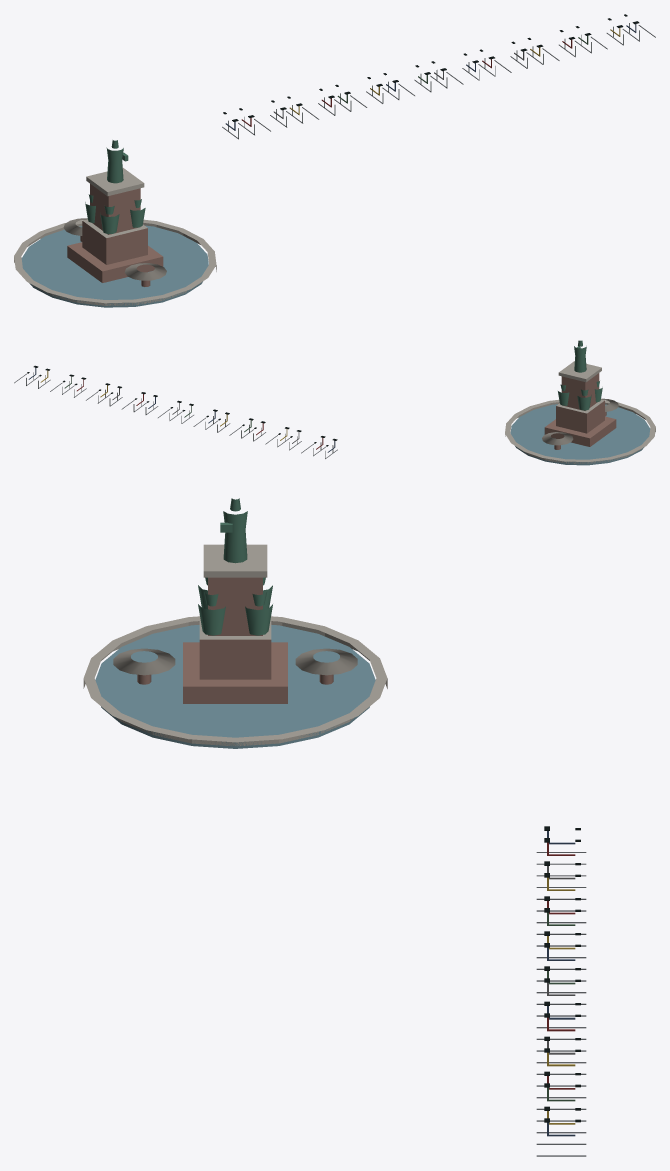
Rendered from hbx_platz.glb.
3 views of the same model, one above another, from view 1: azimuth 30°, elevation 25°; view 2: azimuth 150°, elevation 25°; view 3: azimuth 270°, elevation 25° (orthographic). The views are drawn at different scales.
Parts seen in each view (by area): view 1: hbx_platz; view 2: hbx_platz; view 3: hbx_platz.
Boxes of the visible parts, x1=… form: hbx_platz: x1=14, y1=14, x2=655, y2=307; hbx_platz: x1=14, y1=340, x2=655, y2=465; hbx_platz: x1=83, y1=498, x2=586, y2=1156.
Size of the model in its own units: 45.52 by 7.65 by 18.2.
1 material, 1 textured.
